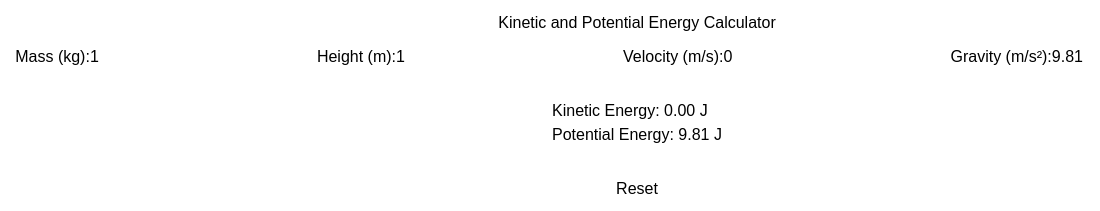
it: Kinetic and Potential Energy Calculator › updates velocity and calculates energy correctly
The width and height of the screenshot is (1100, 211).
Replace the text in the number field labelled "Velocity (m/s):" with "4" at [827, 57], box [724, 45, 930, 69]
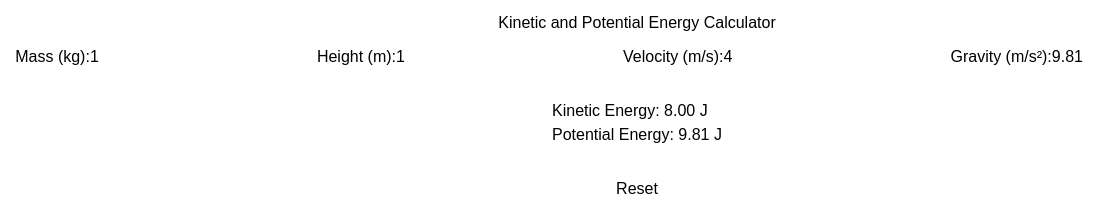
Expected: the text "Potential Energy: 9.81 J" is shown, [552, 123, 722, 147]
Now the text "Kinetic Energy: 8.00 J" is shown, box [552, 99, 722, 123]
